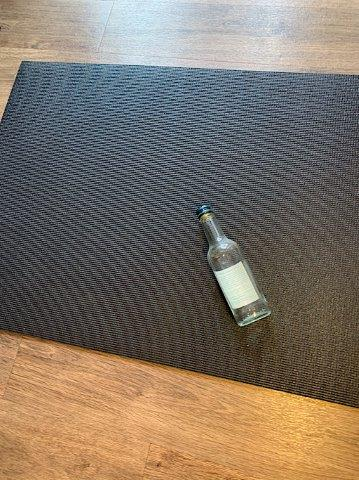botolkaca: (197, 205, 271, 324)
